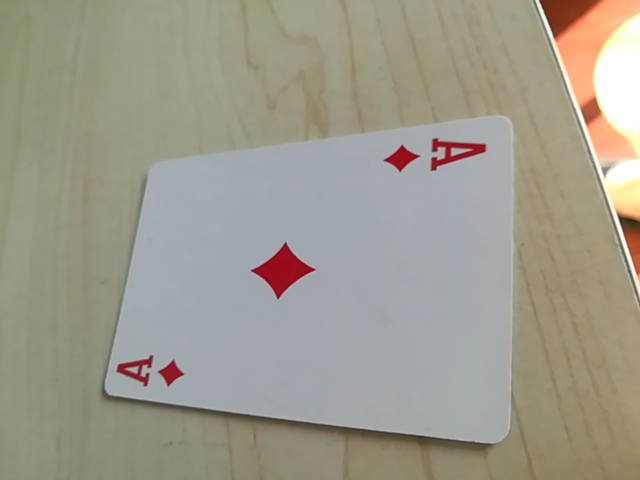fk a: (387, 132, 490, 180), (113, 343, 192, 400)
